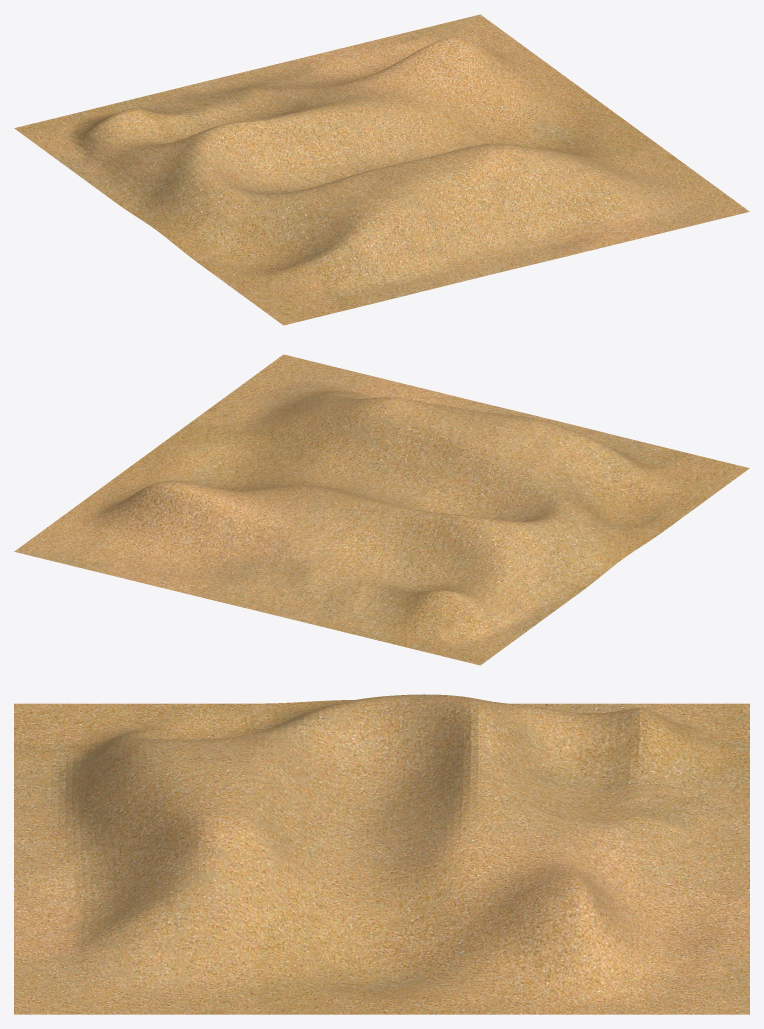
File: desert_tile_sanddunes_2.fbx
The picture shows the model from 3 angles, top to bottom: view 1: azimuth 30°, elevation 25°; view 2: azimuth 150°, elevation 25°; view 3: azimuth 270°, elevation 25°; orthographic projection. The views are drawn at different scales.
Visible parts, largest first — view 1: Grid; view 2: Grid; view 3: Grid.
Part boxes in pixels (x1,y1,x2,y2): Grid: [14, 14, 749, 325]; Grid: [14, 354, 749, 665]; Grid: [14, 694, 749, 1014].
Bounding box in the file's own units: 1000 × 128 × 1000.
